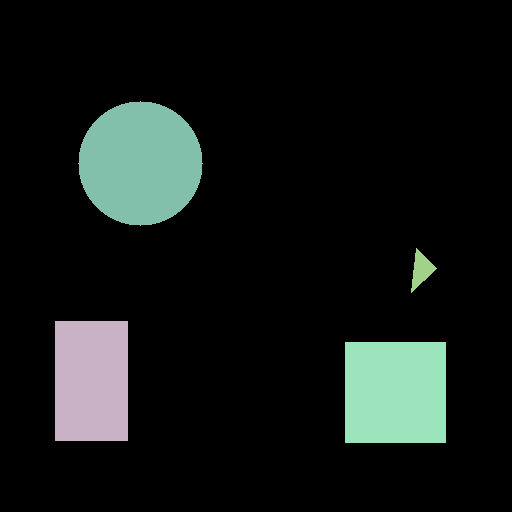circle: (78, 101, 202, 225)
rectangle: (55, 321, 127, 440)
square: (345, 342, 445, 442)
triangle: (411, 248, 436, 292)
